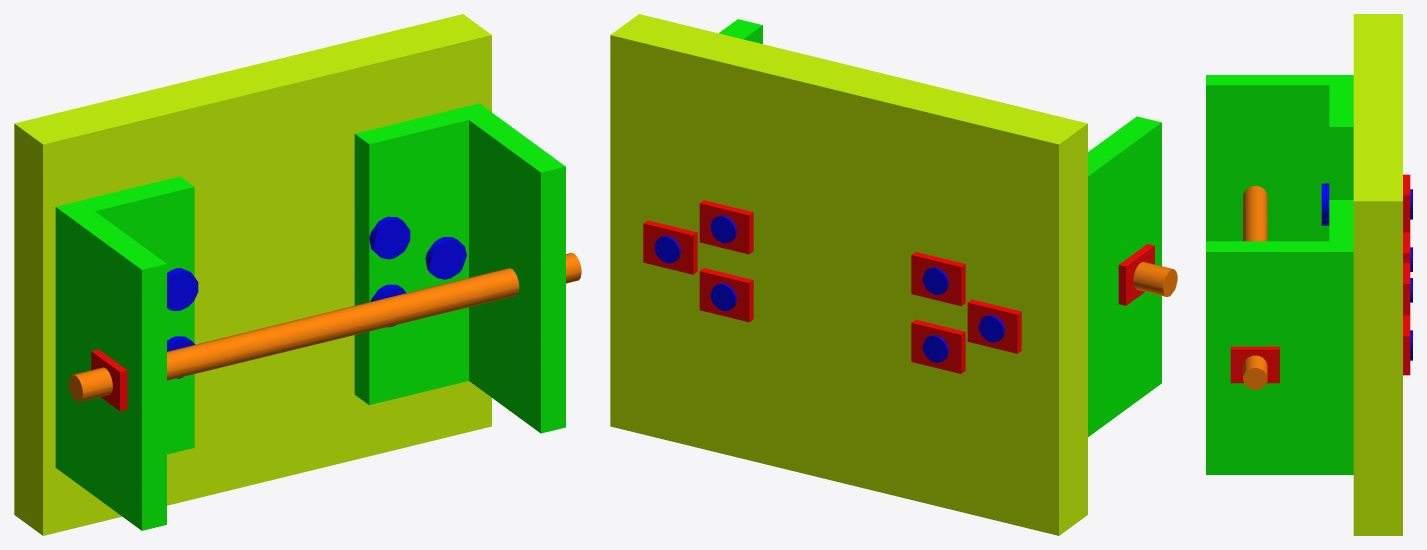
File: test-meters-packed.glb
3 renders of one model, left to right at view 1: azimuth 30°, elevation 25°; view 2: azimuth 150°, elevation 25°; view 3: azimuth 270°, elevation 25°, orthographic. The views are drawn at different scales.
Parts seen in each view (by area): view 1: plate, l-bracket (×2), rod, bolt (×3), nut; view 2: plate, l-bracket (×2), nut (×7), rod; view 3: l-bracket (×2), plate, nut (×4), rod, bolt.
Boxes of the visible parts, bbox=[...] form: plate: bbox=[14, 14, 491, 535]; l-bracket (×2): bbox=[55, 103, 565, 530]; rod: bbox=[68, 253, 581, 401]; bolt (×3): bbox=[167, 216, 466, 310]; nut: bbox=[91, 349, 127, 411]; plate: bbox=[610, 14, 1087, 535]; l-bracket (×2): bbox=[719, 19, 1161, 436]; nut (×7): bbox=[643, 200, 1154, 373]; rod: bbox=[1133, 262, 1177, 296]; l-bracket (×2): bbox=[1206, 75, 1353, 474]; plate: bbox=[1353, 14, 1402, 535]; nut (×4): bbox=[1230, 174, 1410, 383]; rod: bbox=[1243, 186, 1267, 389]; bolt: bbox=[1321, 183, 1412, 220].
Size of the model in its own units: 0.2 by 0.15 by 0.084.
